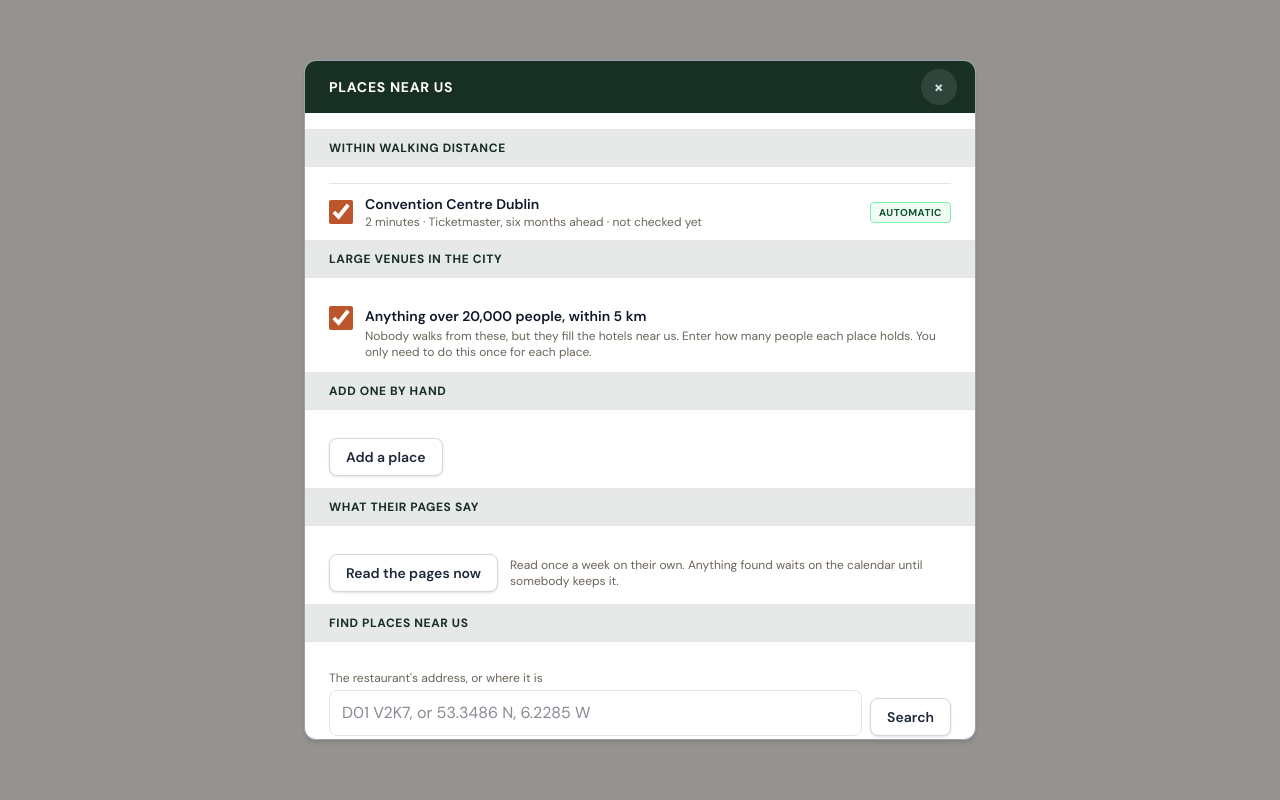
Test: watching a venue from the search › says so before the button is pressed
Type "53.3478, -6.2285" into the field labelled "The restaurant's address, or where it is" at (596, 713), box [329,690,862,736]
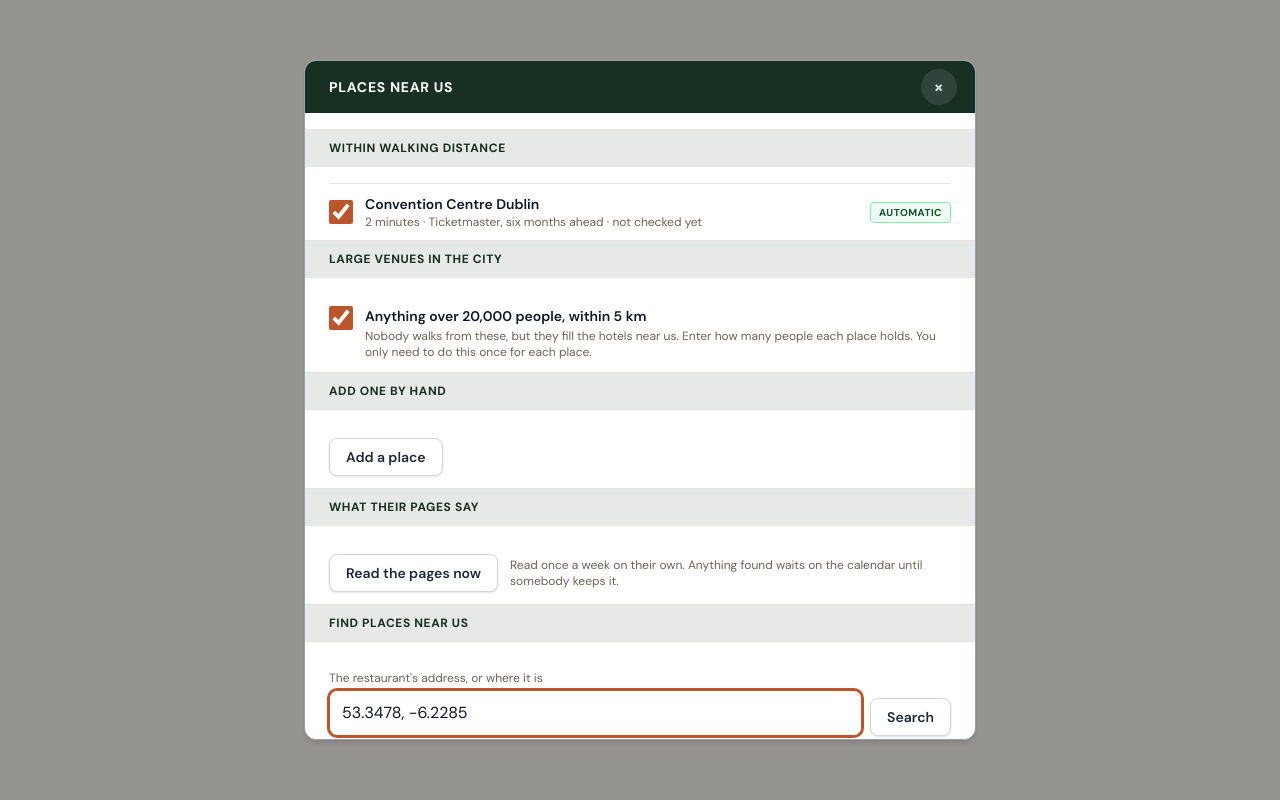
Click the button "Search" at (911, 717), box [870,698,951,736]
(page scrolled)
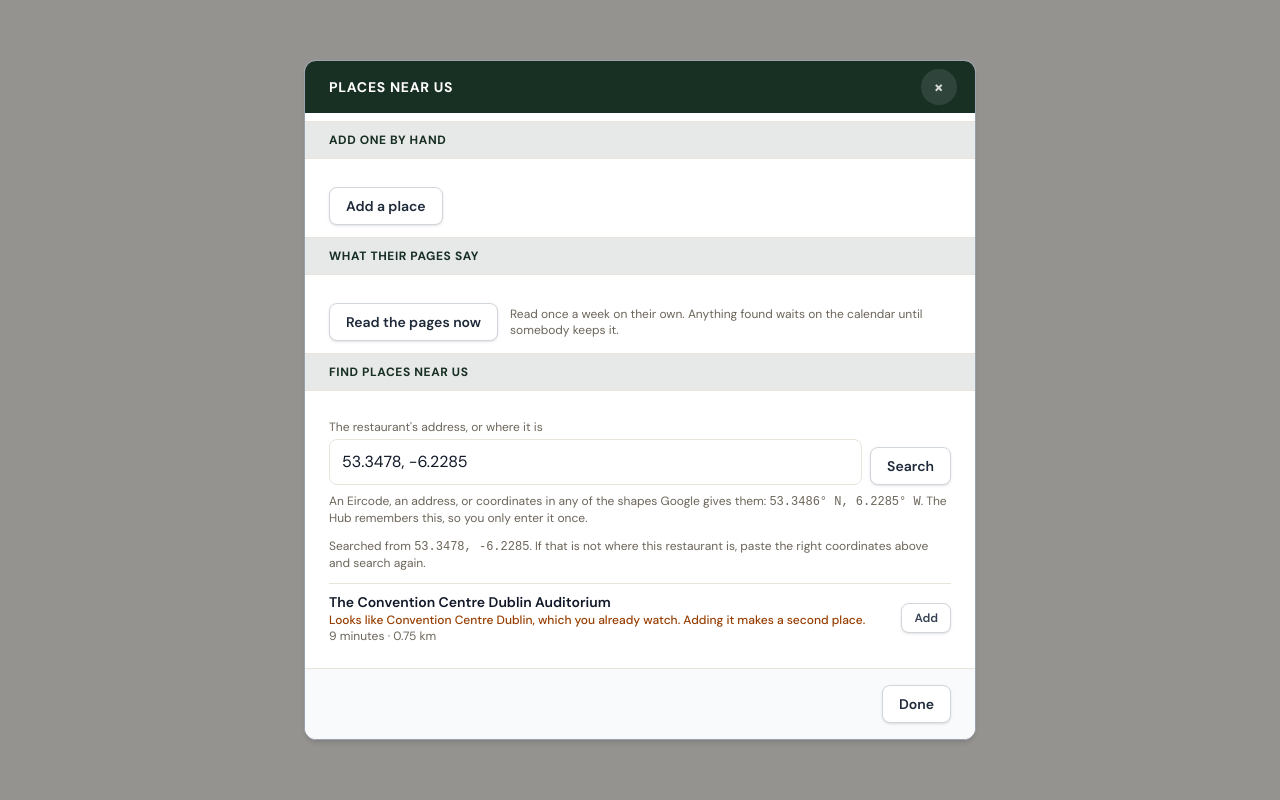
Expected: the text "Looks like Convention Centre Dublin, which you already watch" shows "Adding it makes a second place.", [678,612,865,628]
